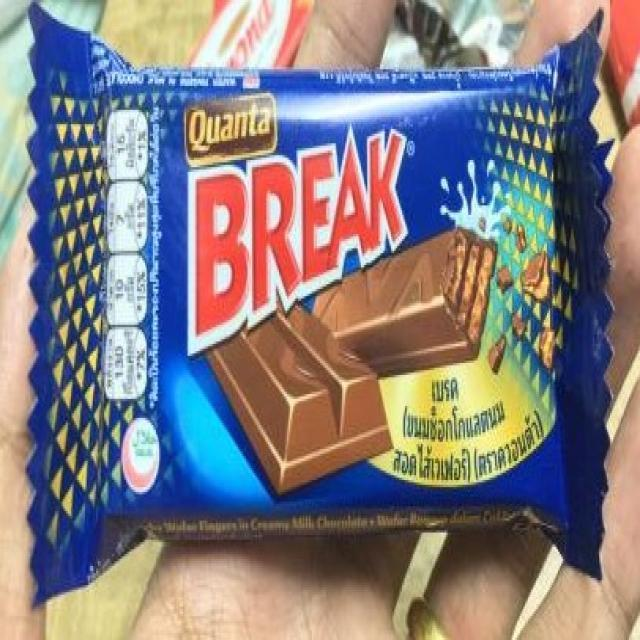Dry: (20, 10, 612, 607)
